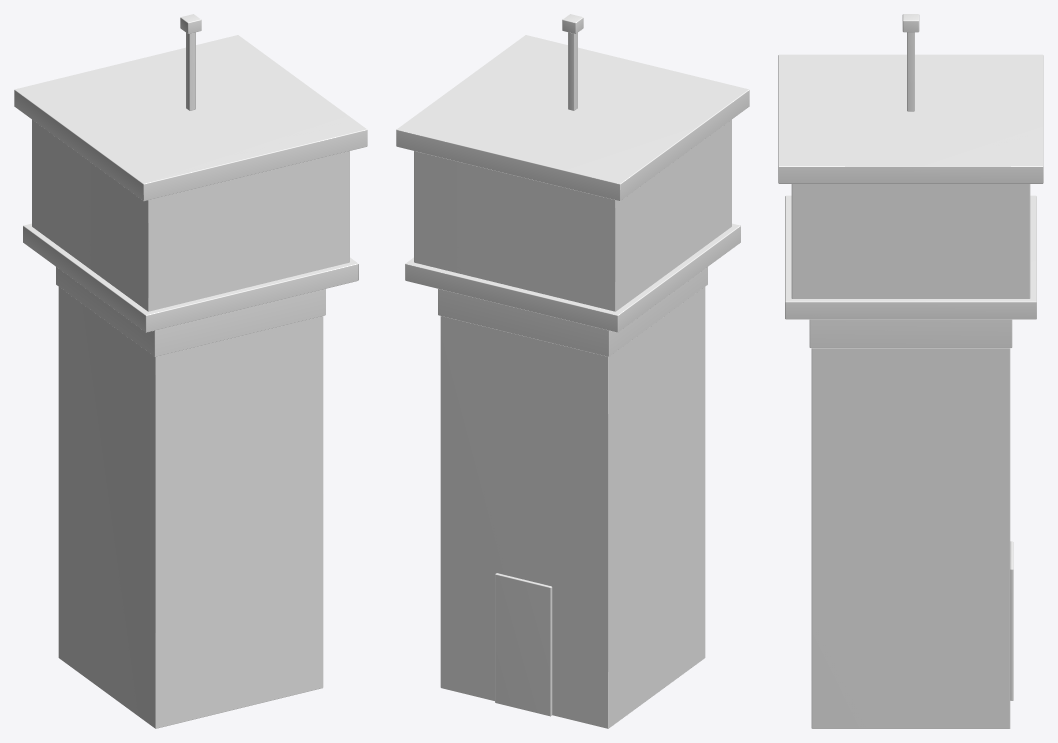
The model's file is control_tower.glb.
The picture shows the model from 3 angles, left to right: view 1: azimuth 30°, elevation 25°; view 2: azimuth 150°, elevation 25°; view 3: azimuth 270°, elevation 25°; orthographic projection. The views are drawn at different scales.
Parts seen in each view (by area): view 1: ControlTower; view 2: ControlTower; view 3: ControlTower.
Boxes of the visible parts, x1,y1,x2,y2 form: ControlTower: (14,14,367,728); ControlTower: (396,14,749,728); ControlTower: (778,14,1043,728).
Bounding box in the file's own units: 4 × 11.15 × 4.
Materials: 1 (1 with a texture image).
